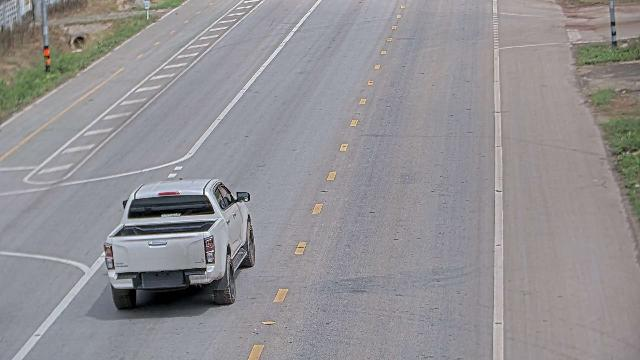pickup-truck: (103, 176, 256, 310)
